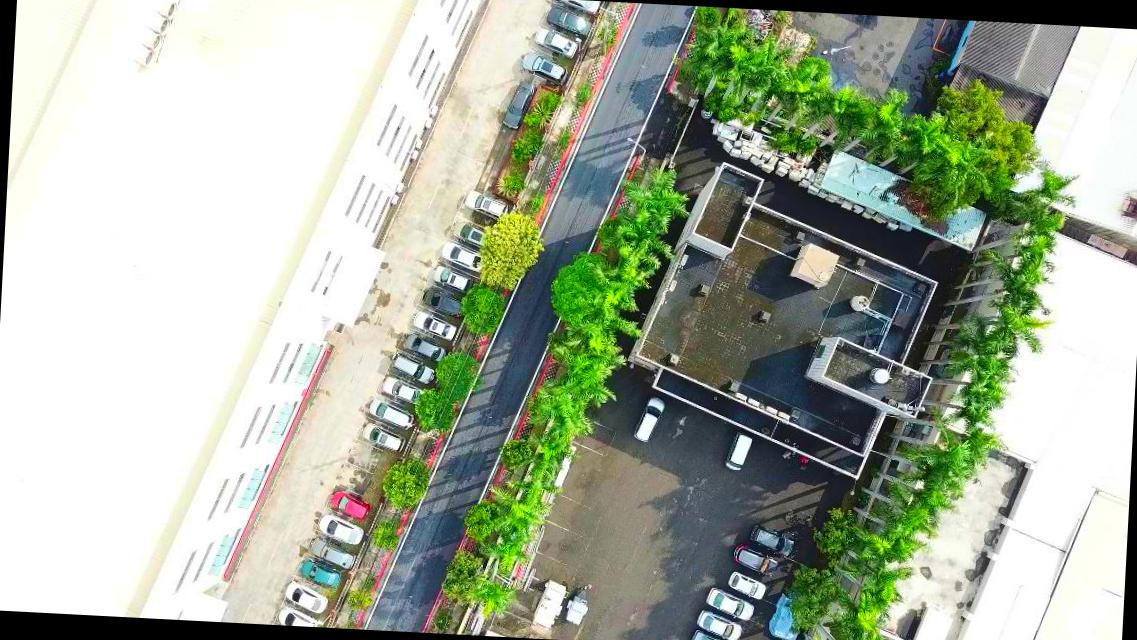vehicle: (704, 587, 754, 624), (306, 536, 356, 570), (390, 353, 439, 386), (502, 80, 534, 130), (633, 396, 665, 444), (439, 242, 487, 274), (282, 580, 327, 614), (532, 28, 578, 61), (379, 374, 426, 406), (366, 398, 416, 428), (317, 514, 363, 546), (732, 545, 779, 576), (695, 610, 745, 639), (520, 52, 568, 82), (431, 265, 478, 295), (419, 288, 466, 318), (359, 422, 405, 452), (544, 8, 593, 36), (749, 525, 793, 556), (722, 429, 752, 474), (402, 334, 446, 364), (297, 560, 341, 590), (412, 311, 455, 341), (725, 572, 767, 602), (462, 190, 506, 218), (328, 489, 370, 518), (449, 220, 491, 248), (276, 604, 326, 626), (547, 0, 604, 16), (690, 629, 739, 639)
